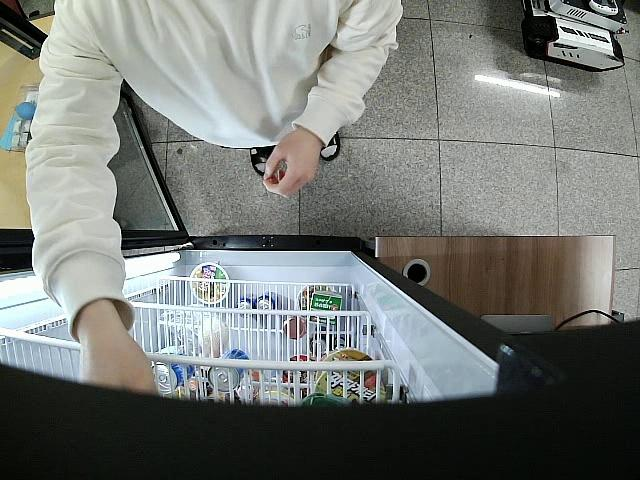00_hand: (262, 132, 317, 199)
